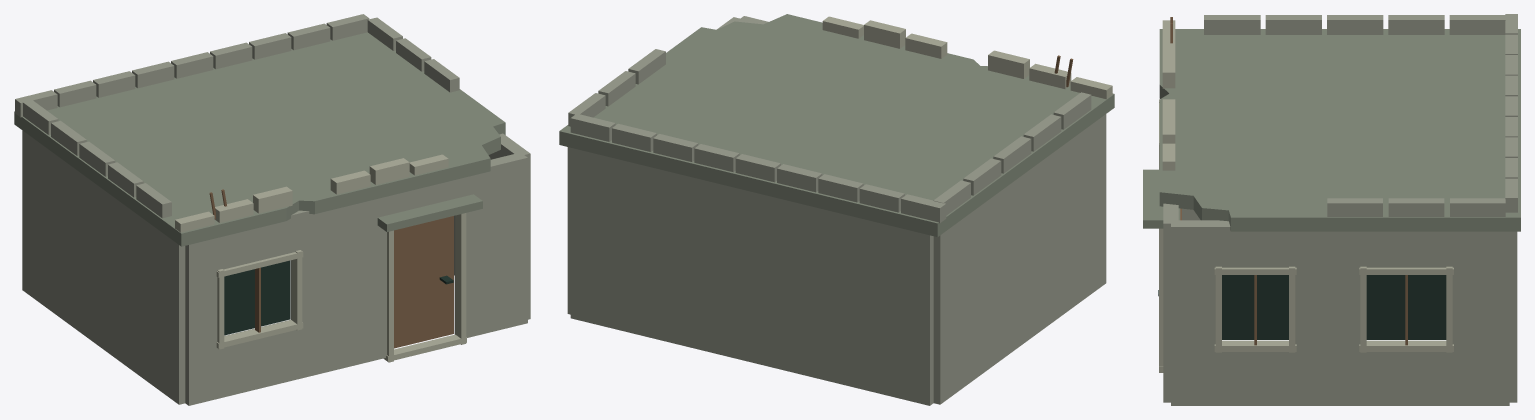
The model's file is ruin_house.glb.
3 views of the same model, side by side, from view 1: azimuth 30°, elevation 25°; view 2: azimuth 150°, elevation 25°; view 3: azimuth 270°, elevation 25° (orthographic). The views are drawn at different scales.
Parts seen in each view (by area): view 1: BrokenRoofSlab, LeftWall, ClosedRustDoor, _MeshInstance3D_9, _MeshInstance3D_8, _MeshInstance3D_14, _MeshInstance3D_5, RecessedWindow, _MeshInstance3D_13, _MeshInstance3D_11, _MeshInstance3D_7, _MeshInstance3D_2 (+37 smaller); view 2: BackWall, BrokenRoofSlab, LeftWall, RearParapet, _MeshInstance3D_56, _MeshInstance3D_51, _MeshInstance3D_52, _MeshInstance3D_60, _MeshInstance3D_48, _MeshInstance3D_55, _MeshInstance3D_50, _MeshInstance3D_53 (+14 smaller); view 3: BrokenRoofSlab, _MeshInstance3D_42, _MeshInstance3D_29, _MeshInstance3D_31, _MeshInstance3D_34, _MeshInstance3D_36, _MeshInstance3D_28, _MeshInstance3D_26, _MeshInstance3D_33, _MeshInstance3D_24, _MeshInstance3D_32, _MeshInstance3D_27 (+30 smaller).
Part boxes in pixels (<box>): BrokenRoofSlab: <box>14,32,505,246</box>; LeftWall: <box>22,130,185,404</box>; ClosedRustDoor: <box>394,216,453,348</box>; _MeshInstance3D_9: <box>290,232,386,323</box>; _MeshInstance3D_8: <box>298,303,386,379</box>; _MeshInstance3D_14: <box>454,198,527,283</box>; _MeshInstance3D_5: <box>220,319,297,398</box>; RecessedWindow: <box>224,260,290,335</box>; _MeshInstance3D_13: <box>454,269,527,337</box>; _MeshInstance3D_11: <box>296,196,389,247</box>; _MeshInstance3D_7: <box>220,212,297,266</box>; _MeshInstance3D_2: <box>185,274,217,351</box>; BackWall: <box>570,148,933,405</box>; BrokenRoofSlab: <box>559,14,1114,237</box>; LeftWall: <box>933,114,1106,404</box>; RearParapet: <box>901,194,946,223</box>; _MeshInstance3D_56: <box>864,20,905,48</box>; _MeshInstance3D_51: <box>988,50,1029,78</box>; _MeshInstance3D_52: <box>777,164,822,192</box>; _MeshInstance3D_60: <box>570,113,615,141</box>; _MeshInstance3D_48: <box>859,184,904,212</box>; _MeshInstance3D_55: <box>694,144,739,172</box>; _MeshInstance3D_50: <box>818,174,863,202</box>; _MeshInstance3D_53: <box>735,154,780,182</box>; BrokenRoofSlab: <box>1159,29,1520,231</box>; _MeshInstance3D_42: <box>1366,275,1446,339</box>; _MeshInstance3D_29: <box>1295,270,1360,347</box>; _MeshInstance3D_31: <box>1363,352,1449,405</box>; _MeshInstance3D_34: <box>1452,270,1509,347</box>; _MeshInstance3D_36: <box>1222,275,1288,339</box>; _MeshInstance3D_28: <box>1292,347,1363,405</box>; _MeshInstance3D_26: <box>1219,352,1292,405</box>; _MeshInstance3D_33: <box>1449,347,1509,405</box>; _MeshInstance3D_24: <box>1171,270,1215,347</box>; _MeshInstance3D_32: <box>1363,231,1449,267</box>; _MeshInstance3D_27: <box>1219,220,1292,267</box>.
Size of the model in its own units: 6.34 by 3.51 by 5.35.
